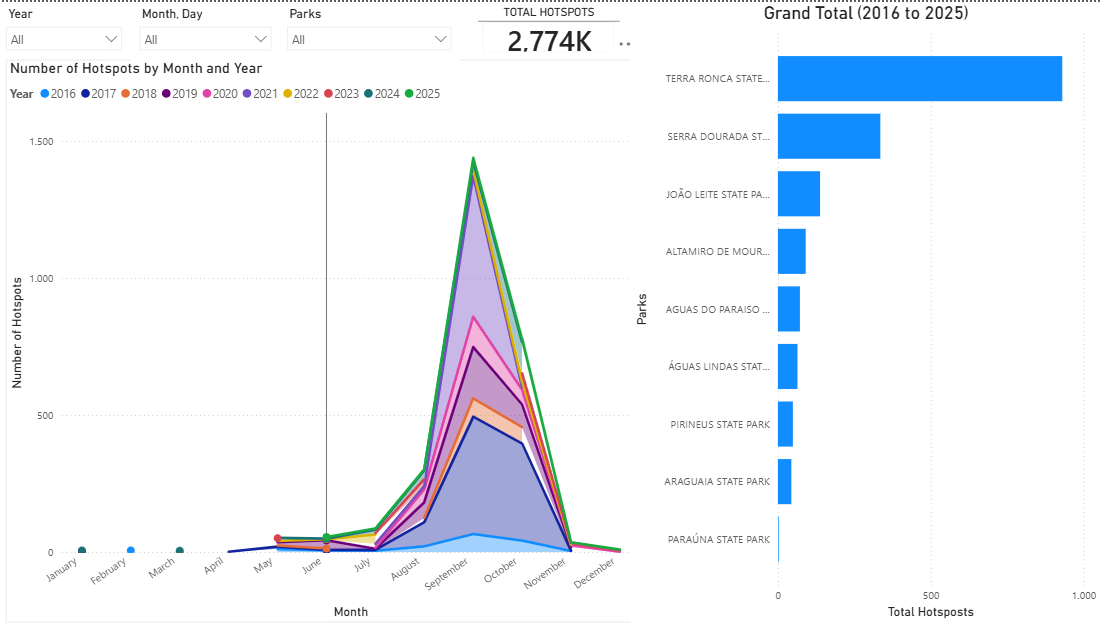

Layout of this report page (visuals, bound fields, positions):
{"tool":"powerbi","page":{"name":"Line Chart","canvas":[1280,720],"ordinal":0},"visuals":[{"type":"stackedAreaChart","title":"Number of Hotspots by Month and Year","fields":{"Category":["focos_final_powerbi.Mes"],"Series":["focos_final_powerbi.Ano"],"Y":["CountNonNull(focos_final_powerbi.Total Focos)"]},"box":[10,67.1,740,652.9],"z":0},{"type":"slicer","fields":{"Values":["focos_final_powerbi.Month_English","focos_final_powerbi.Dia"]},"box":[154.7,0,172.9,68.6],"z":1000},{"type":"slicer","fields":{"Values":["focos_final_powerbi.Parks_English"]},"box":[326.7,0,210.5,75.6],"z":2000},{"type":"clusteredBarChart","title":"Grand Total (2016 to 2025)","fields":{"Category":["focos_final_powerbi.Parks_English"],"Y":["CountNonNull(focos_final_powerbi.FRP)"]},"box":[734.9,0,545.4,719.8],"z":3000},{"type":"slicer","fields":{"Values":["focos_final_powerbi.Ano"]},"box":[0,0,154.7,59.3],"z":5000},{"type":"cardVisual","title":"TOTAL HOTSPOTS","fields":{"Data":["CountNonNull(focos_final_powerbi.Total Focos)"]},"box":[558.3,4.8,163.9,58.7],"z":6001}]}

Visuals, with their boxes in screenshot pixels (x1, y1, x2, y2), scaled from the page's 1280x720 canvas onto the 1101x623 screenshot:
"Number of Hotspots by Month and Year" stackedAreaChart: select_region(9, 58, 645, 622)
slicer - focos_final_powerbi.Month_English x focos_final_powerbi.Dia: select_region(133, 0, 282, 59)
slicer - focos_final_powerbi.Parks_English: select_region(281, 0, 462, 65)
"Grand Total (2016 to 2025)" clusteredBarChart: select_region(632, 0, 1100, 622)
slicer - focos_final_powerbi.Ano: select_region(0, 0, 133, 51)
"TOTAL HOTSPOTS" cardVisual: select_region(480, 4, 621, 55)
